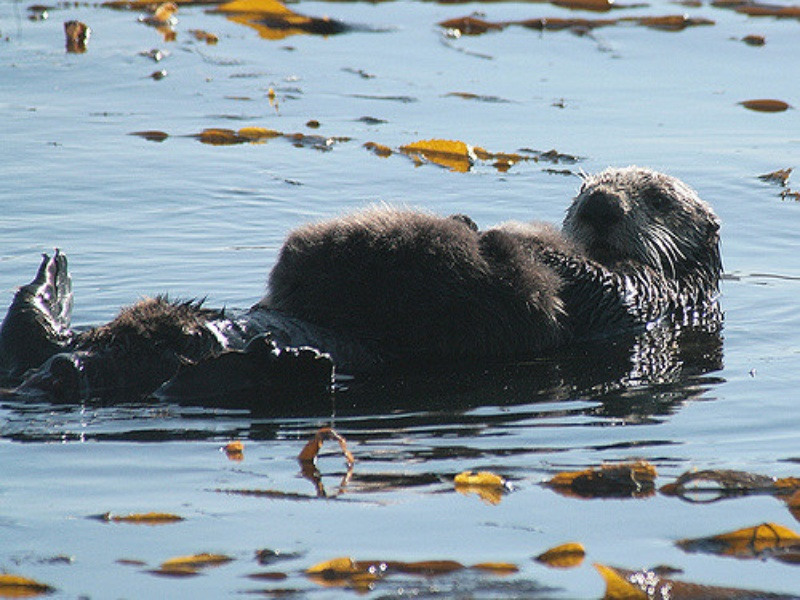minkish: (2, 168, 731, 430)
